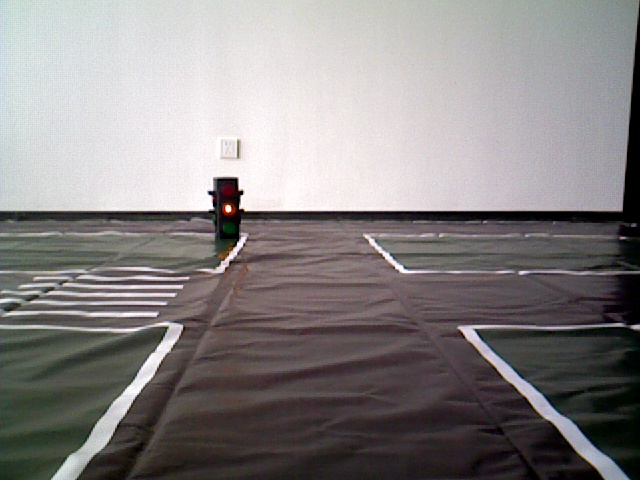yellow: (212, 172, 243, 243)
